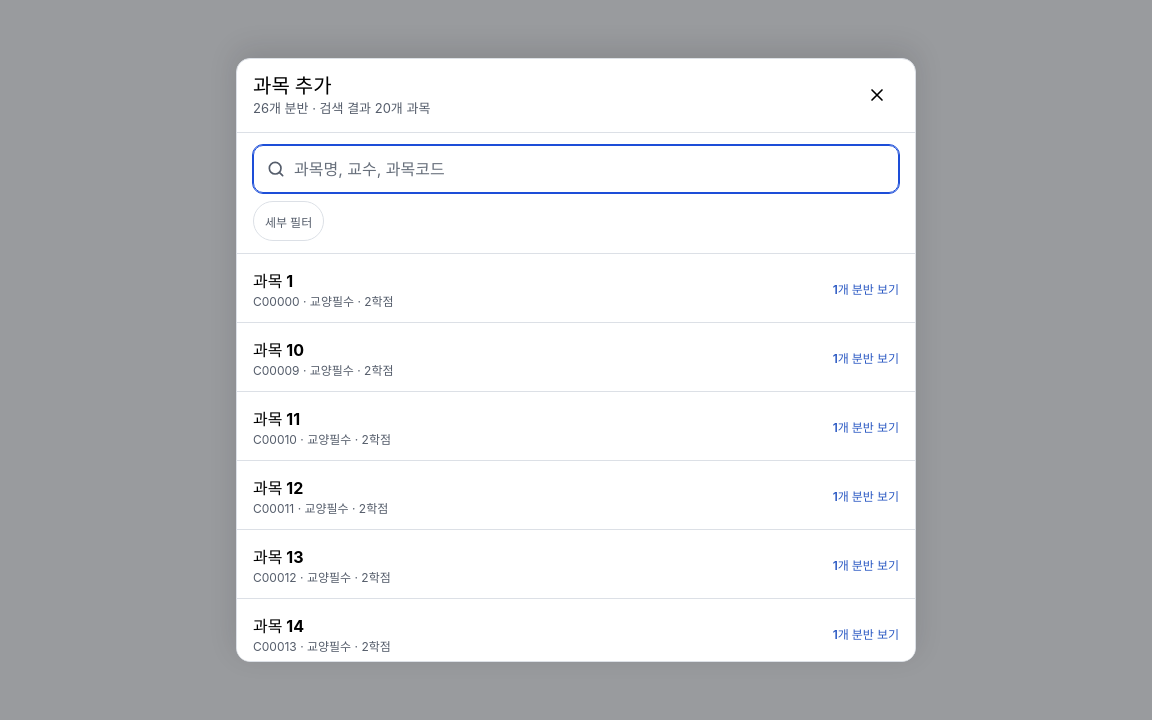
Test: course search sheet › renders at most 20 collapsed course rows and expands only one course at a time
Click the button "과목 1 C00000 · 교양필수 · 2학점 1개 분반 보기": {"x": 273, "y": 281} [237, 254, 915, 322]
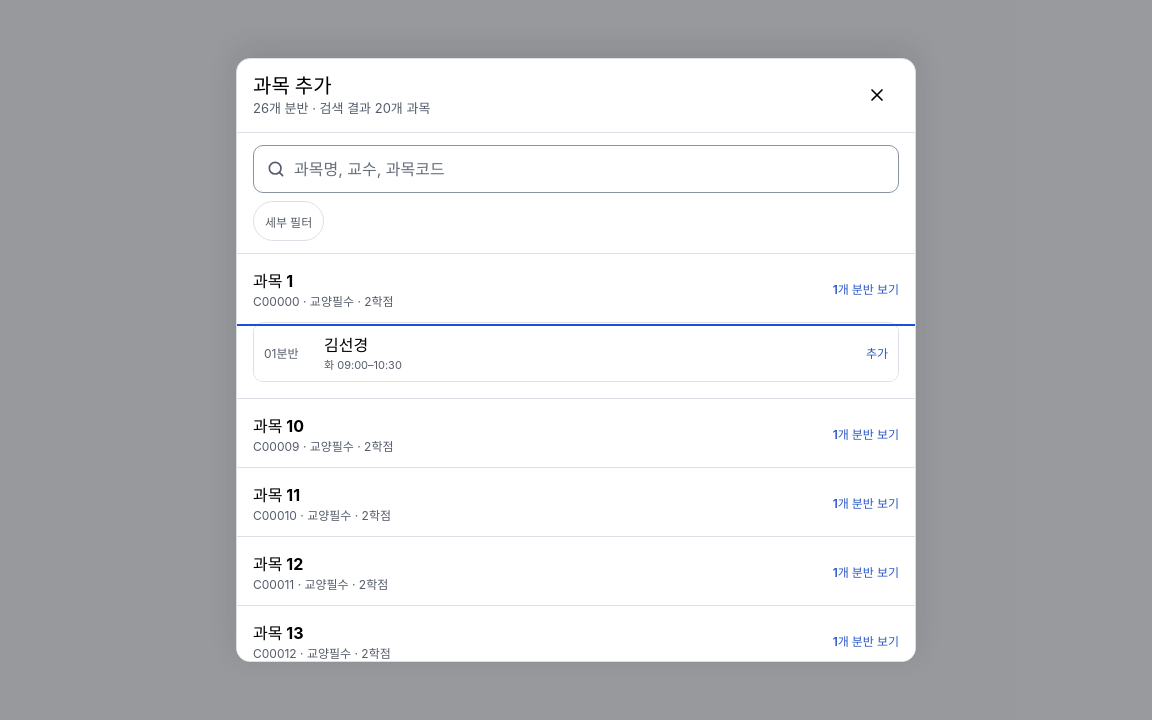
expect the button "01분반 김선경 화 09:00–10:30 추가" is shown: met, box [254, 323, 898, 381]
Click the button "과목 10 C00009 · 교양필수 · 2학점 1개 분반 보기": {"x": 278, "y": 426} [237, 399, 915, 467]
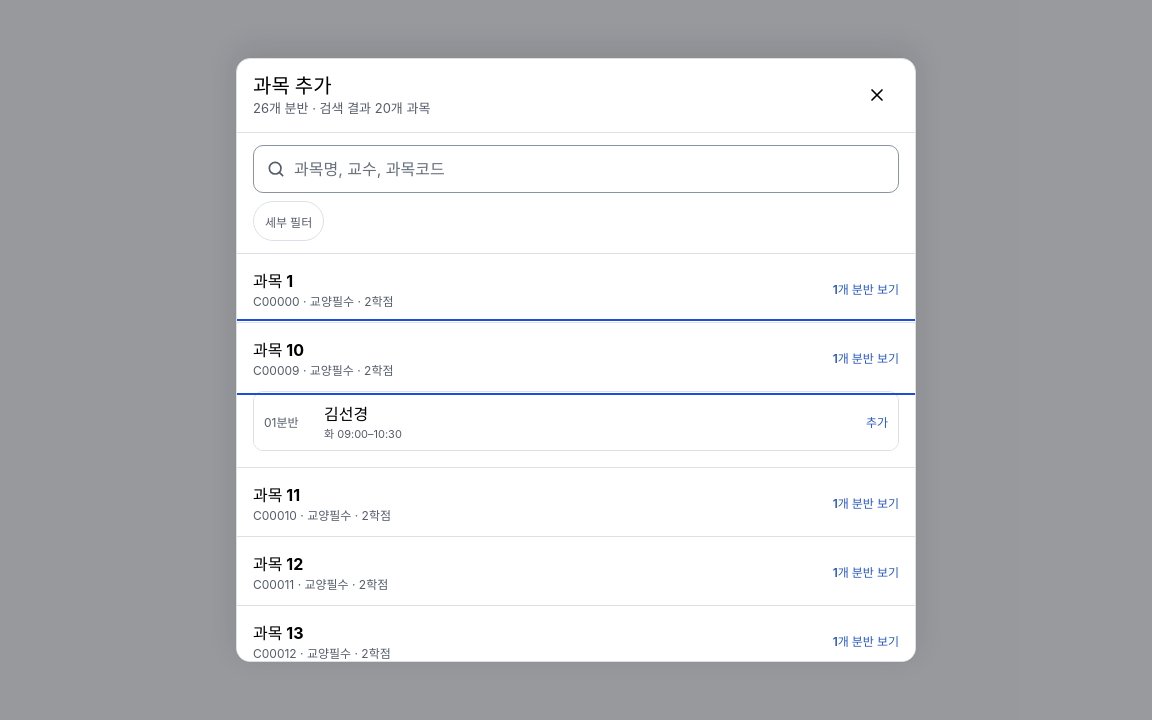
expect the button "과목 1 C00000 · 교양필수 · 2학점 1개 분반 보기" is collapsed: met, box [237, 254, 915, 322]
expect the button "과목 10 C00009 · 교양필수 · 2학점 1개 분반 보기" is expanded: met, box [237, 323, 915, 391]
